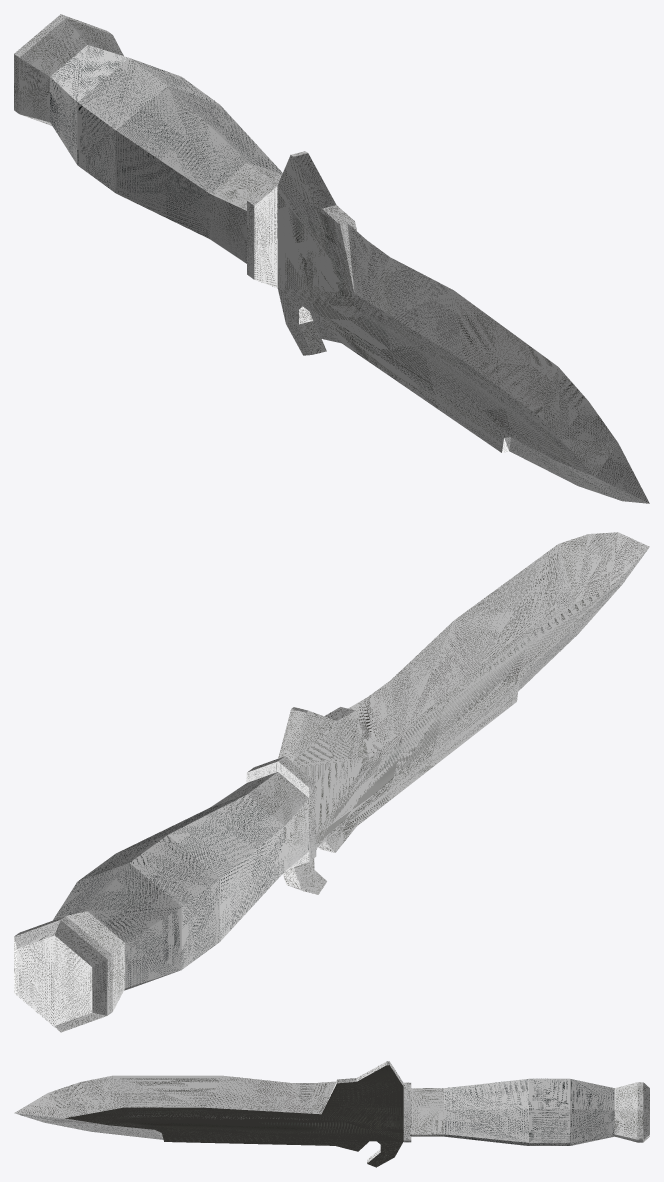
File: model_scale.obj
The picture shows the model from 3 angles, top to bottom: view 1: azimuth 30°, elevation 25°; view 2: azimuth 150°, elevation 25°; view 3: azimuth 270°, elevation 25°; orthographic projection. The views are drawn at different scales.
Parts seen in each view (by area): view 1: mesh1_mesh1-geometry; view 2: mesh1_mesh1-geometry; view 3: mesh1_mesh1-geometry.
Boxes of the visible parts, <box> form: mesh1_mesh1-geometry: <box>14,14,649,503</box>; mesh1_mesh1-geometry: <box>14,532,649,1032</box>; mesh1_mesh1-geometry: <box>14,1061,649,1167</box>.
Bounding box in the file's own units: 0.0213 × 0.0374 × 0.2106.
Materials: 7 (2 with a texture image).
